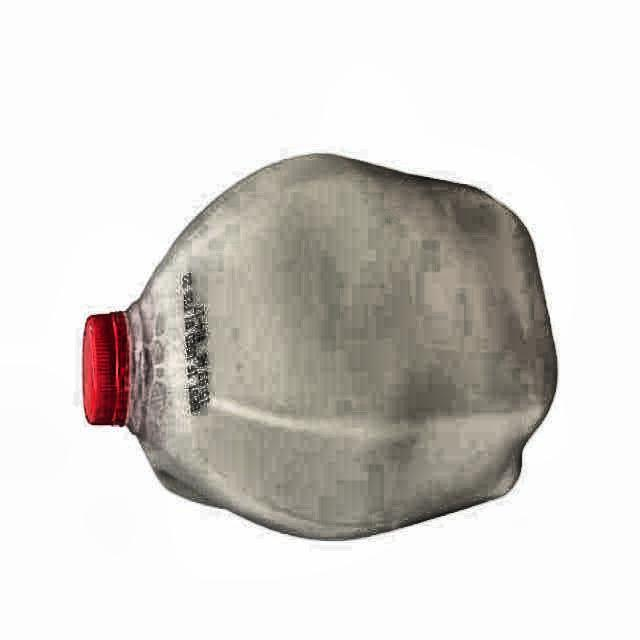plastic: (84, 155, 556, 539)
